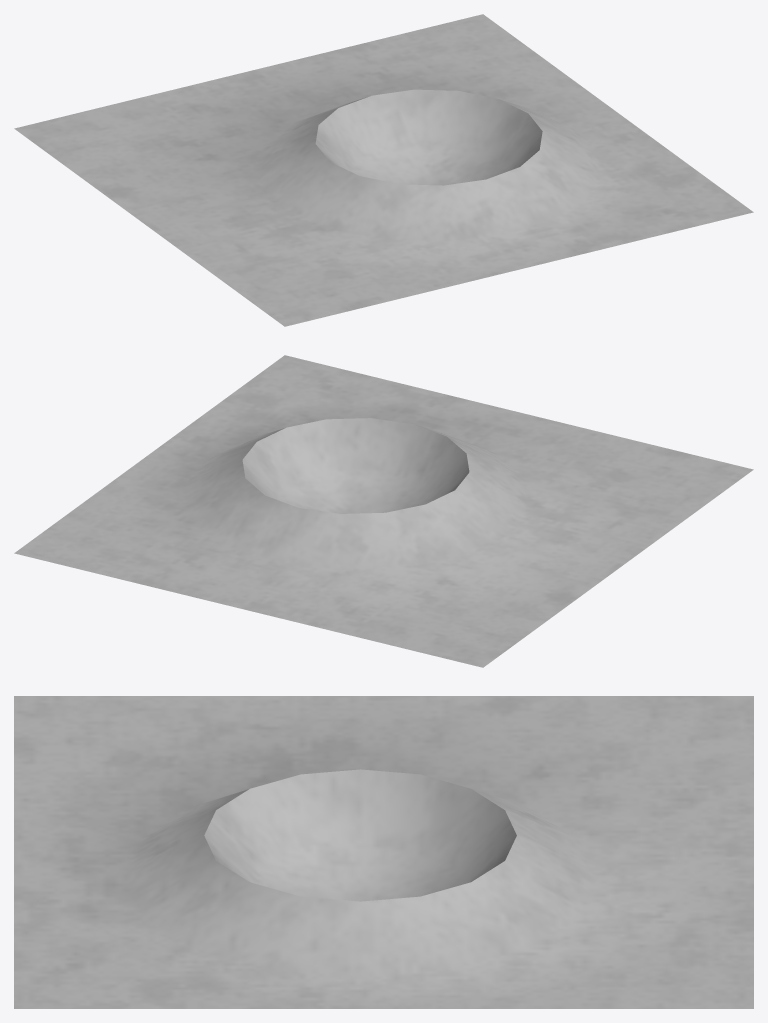
The model's file is m_Tile_Crater_Small.fbx.
The picture shows the model from 3 angles, top to bottom: view 1: azimuth 30°, elevation 25°; view 2: azimuth 150°, elevation 25°; view 3: azimuth 270°, elevation 25°; orthographic projection. The views are drawn at different scales.
Visible parts, largest first — view 1: Tile_Crater_Small; view 2: Tile_Crater_Small; view 3: Tile_Crater_Small.
Part boxes in pixels (x1,y1,x2,y2): Tile_Crater_Small: [14, 14, 753, 326]; Tile_Crater_Small: [14, 355, 753, 667]; Tile_Crater_Small: [14, 696, 753, 1008].
Size of the model in its own units: 100 by 11.46 by 100.
